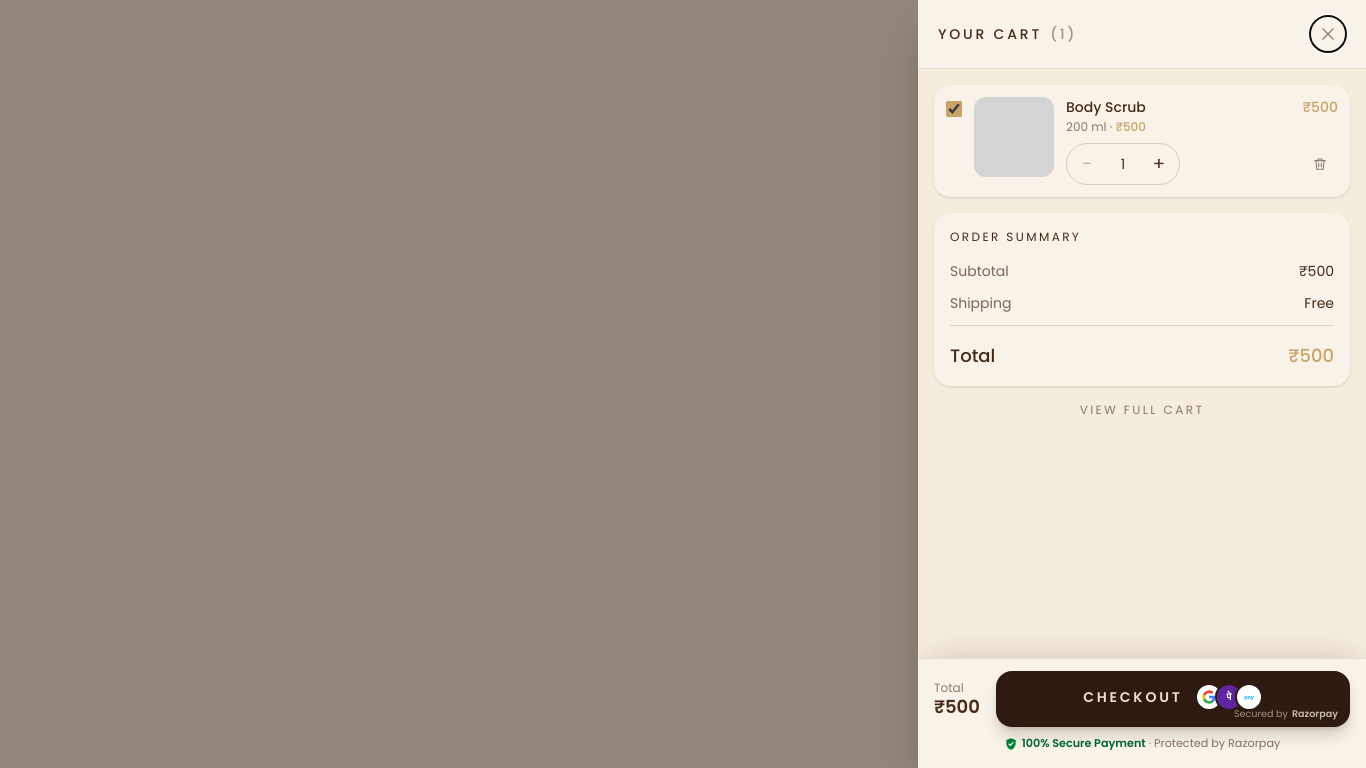
Test: CartDrawer › the stepper changes the quantity
Step 1. Click the button named "Increase quantity" → x=1159, y=164, box x1=1139 y1=144 x2=1179 y2=184
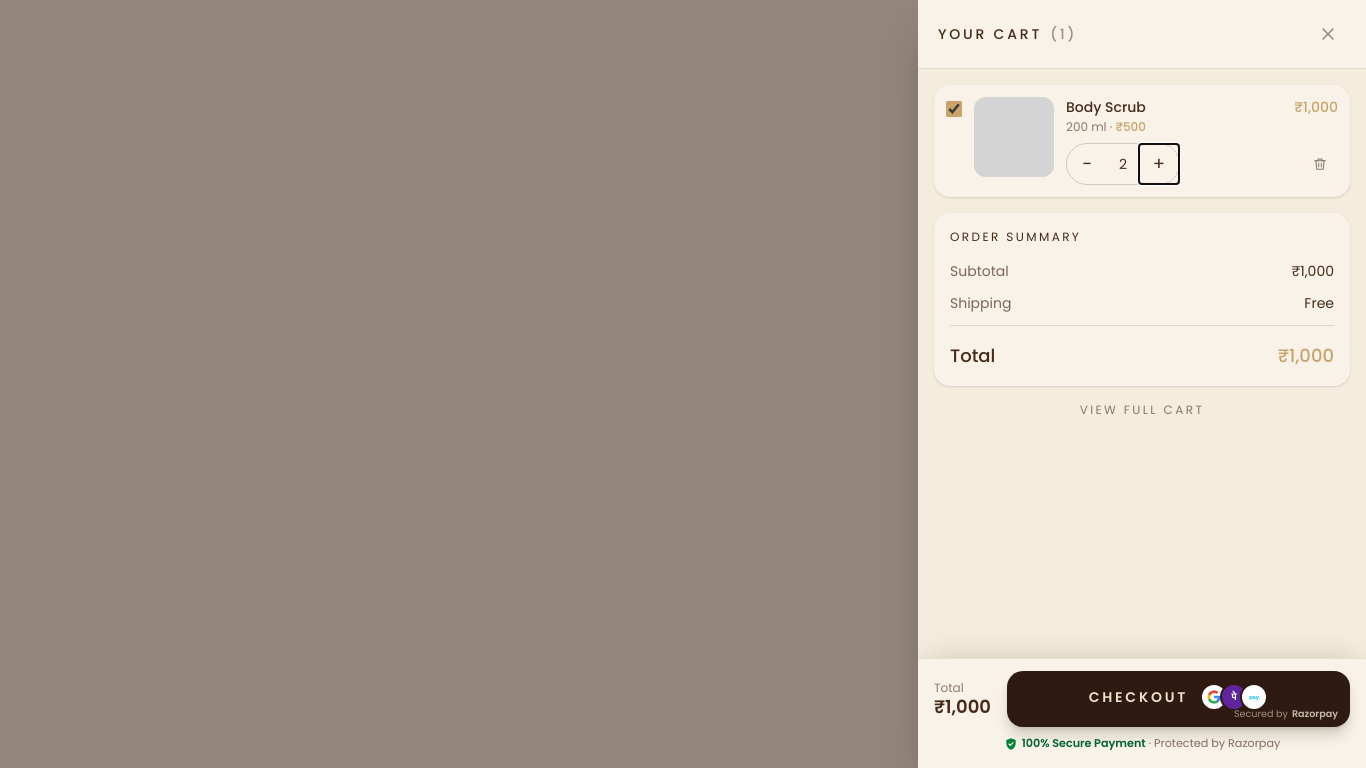
Result: the 3rd text "₹1,000" is shown at x1=1278 y1=342 x2=1334 y2=370
